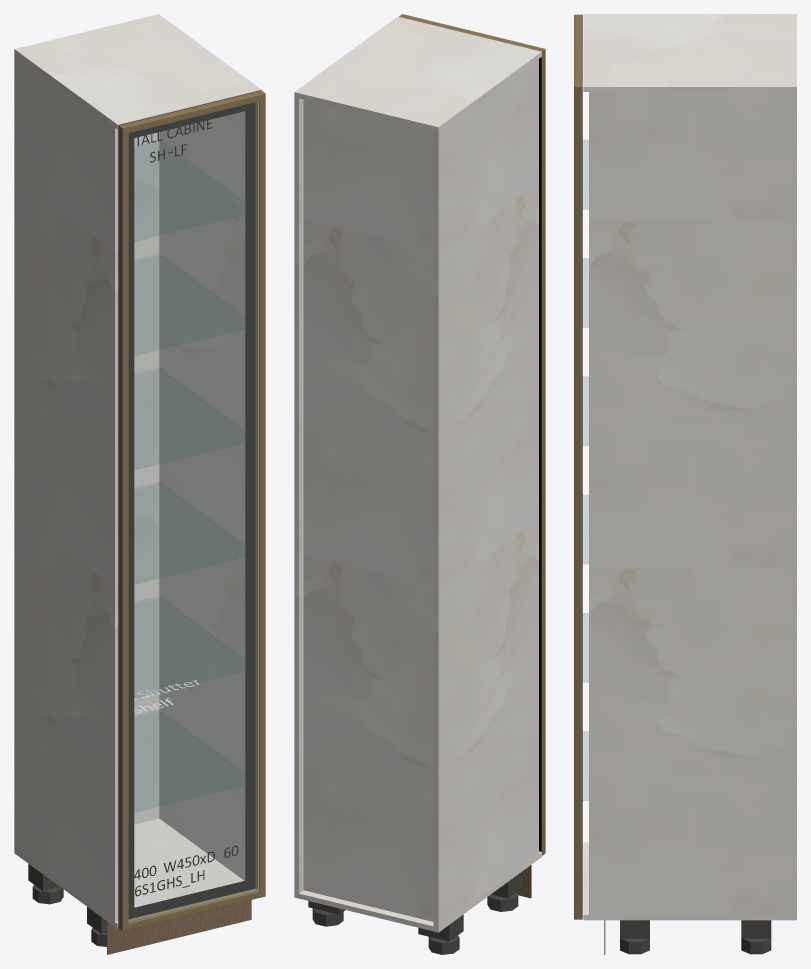
Rendered from TC6S1GHS_LH (H2400xW450xD560).glb.
3 views of the same model, side by side, from view 1: azimuth 30°, elevation 25°; view 2: azimuth 150°, elevation 25°; view 3: azimuth 270°, elevation 25° (orthographic). The views are drawn at different scales.
Size of what is drawn, in the model's own units: 0.4502 by 2.5 by 0.582.
Materials: 9 (2 with a texture image).
